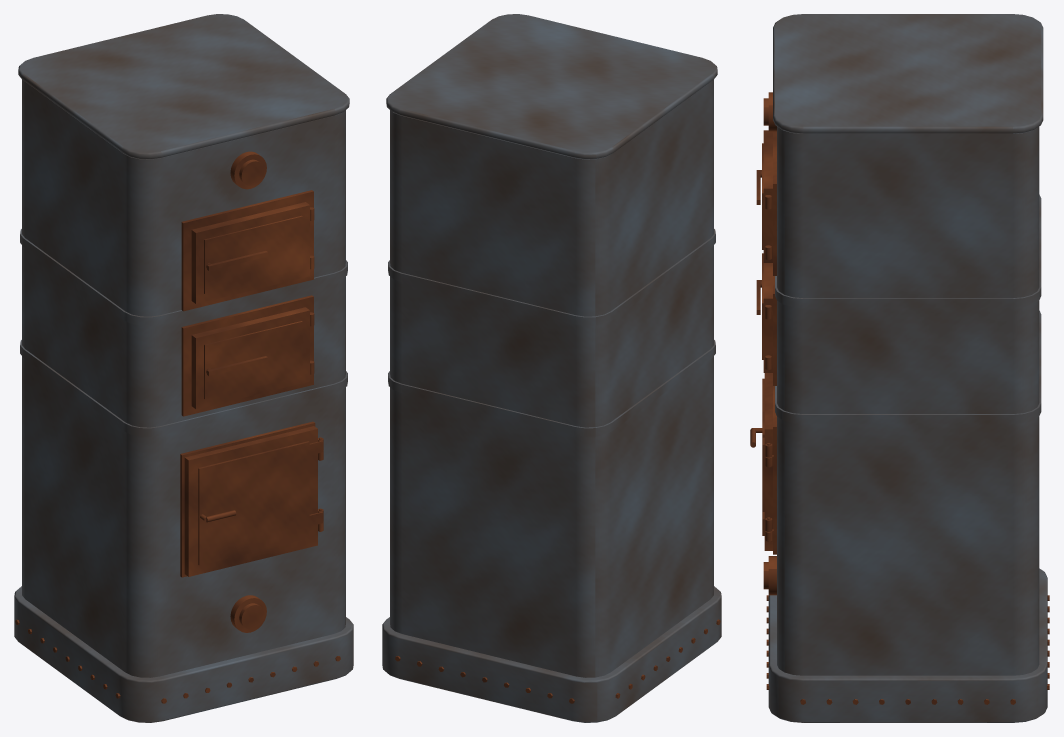
Rendered from boiler.glb.
3 renders of one model, left to right at view 1: azimuth 30°, elevation 25°; view 2: azimuth 150°, elevation 25°; view 3: azimuth 270°, elevation 25°, orthographic. The views are drawn at different scales.
Visible parts, largest first — view 1: boiler, fire_door; view 2: boiler; view 3: boiler, fire_door.
Part boxes in pixels (x1=…): boiler: x1=14, y1=14, x2=353, y2=722; fire_door: x1=184, y1=426, x2=323, y2=576; boiler: x1=382, y1=14, x2=721, y2=722; boiler: x1=756, y1=14, x2=1049, y2=722; fire_door: x1=750, y1=373, x2=772, y2=550.
Bounding box in the file's own units: 0.862 × 2 × 0.9117.
3 materials, 2 textured.
